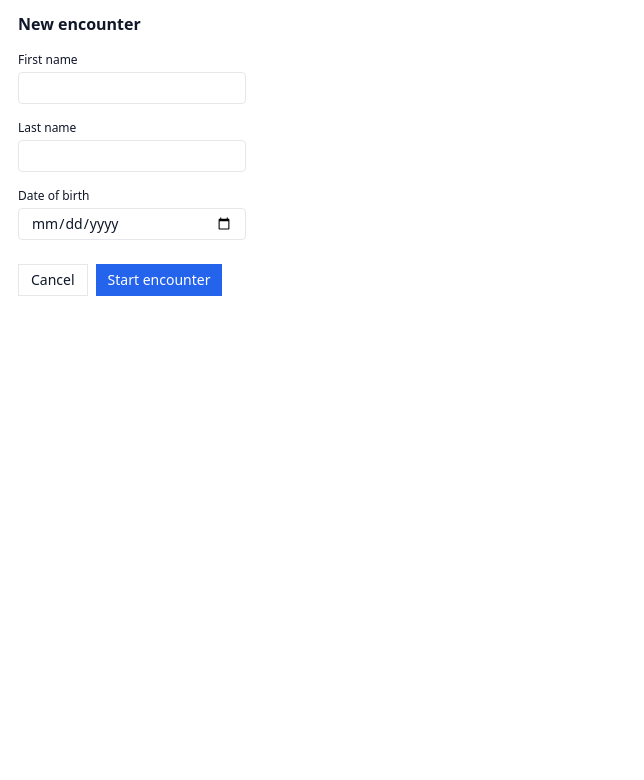
StartEncounterPage › shows error toast on API failure
This screenshot has width=644, height=780.
Type "Jane" into the field labelled "First name" at (132,88), box left=18, top=72, right=246, bottom=104
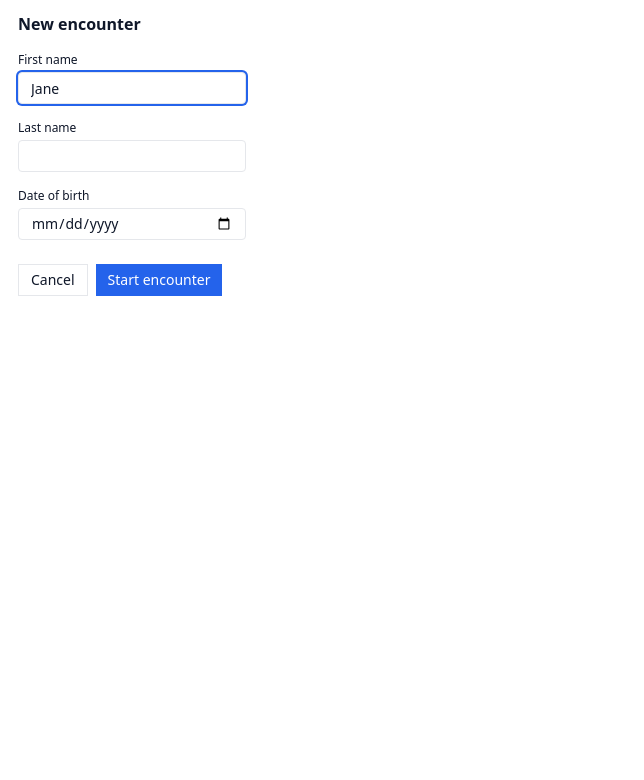
Type "Smith" into the field labelled "Last name" at (132,156), box left=18, top=140, right=246, bottom=172
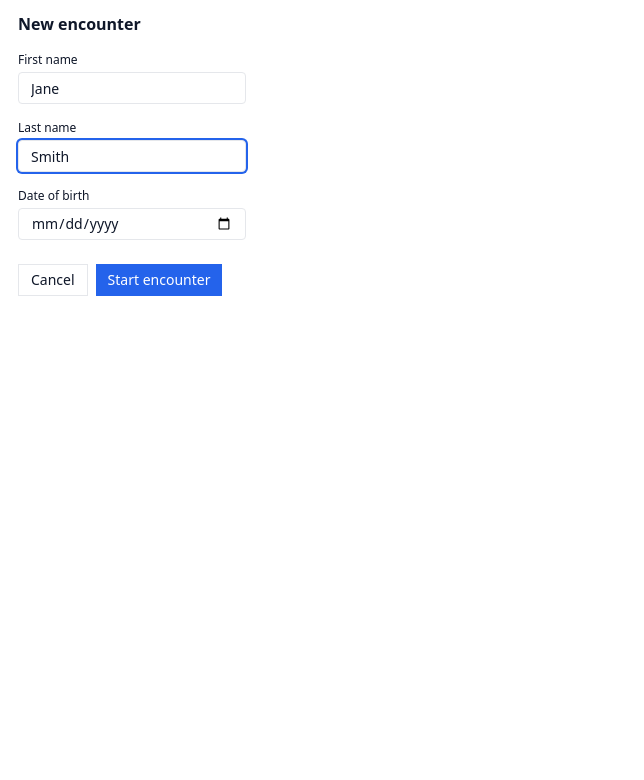
Type "1980-06-15" into the date field labelled "Date of birth" at (132,224), box left=18, top=208, right=246, bottom=240
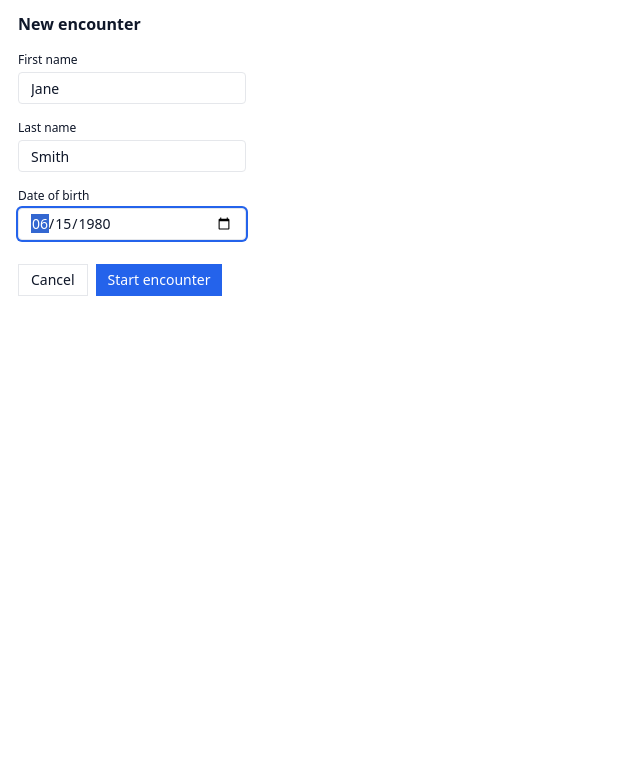
Click the button "Start encounter" at (159,280), box left=96, top=264, right=222, bottom=296
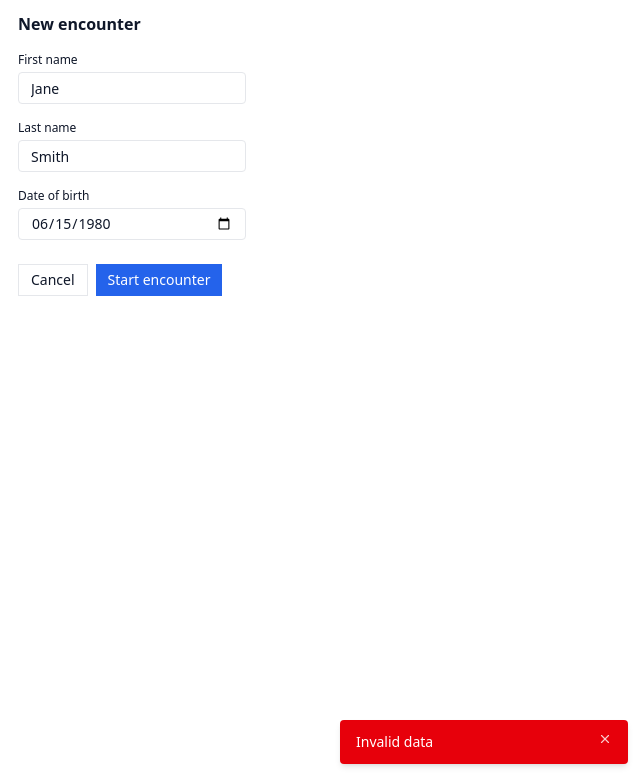
Now the message "Invalid data" is shown, box left=340, top=720, right=628, bottom=764
